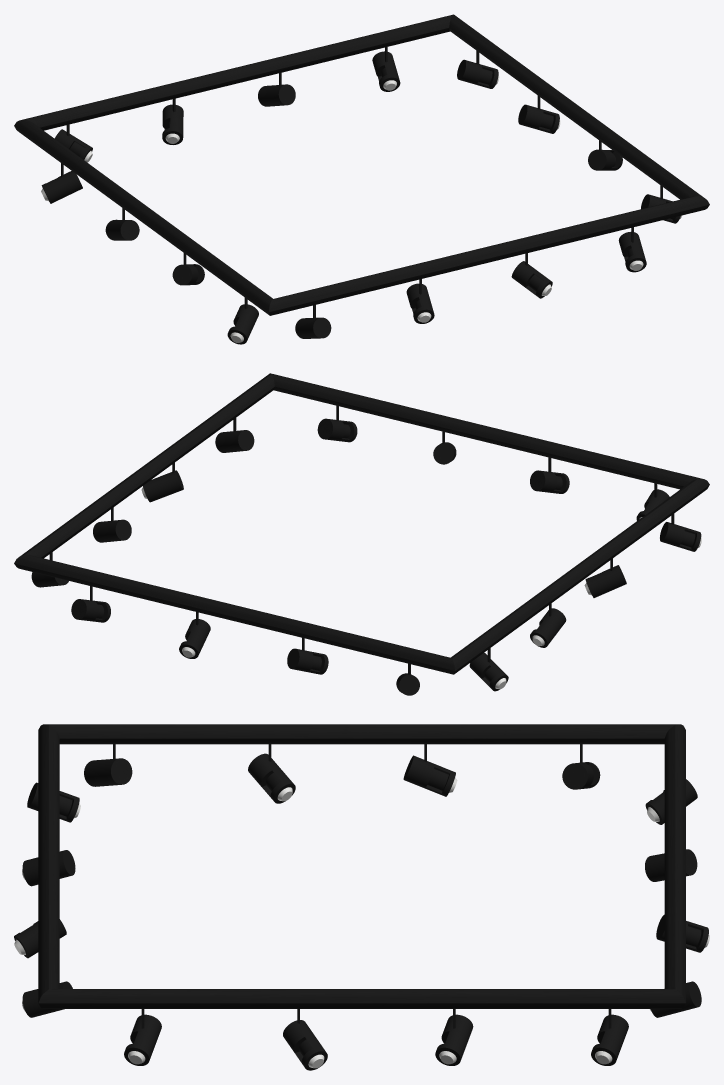
Rendered from SM_LampadasTeto.fbx.
3 renders of one model, top to bottom at view 1: azimuth 30°, elevation 25°; view 2: azimuth 150°, elevation 25°; view 3: azimuth 270°, elevation 25°, orthographic. The views are drawn at different scales.
Parts seen in each view (by area): view 1: SM_LampadasTeto; view 2: SM_LampadasTeto; view 3: SM_LampadasTeto.
Boxes of the visible parts, x1=… form: SM_LampadasTeto: x1=14, y1=14, x2=709, y2=344; SM_LampadasTeto: x1=14, y1=373, x2=709, y2=695; SM_LampadasTeto: x1=14, y1=724, x2=709, y2=1070.
Bounding box in the file's own units: 223 × 24.74 × 222.
